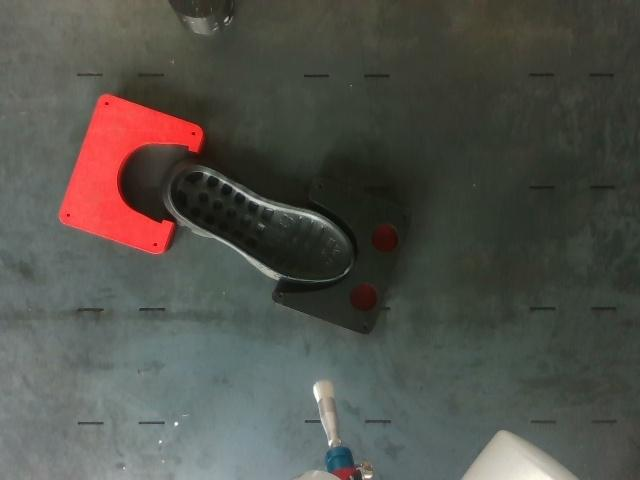shoes: (170, 165, 352, 281)
